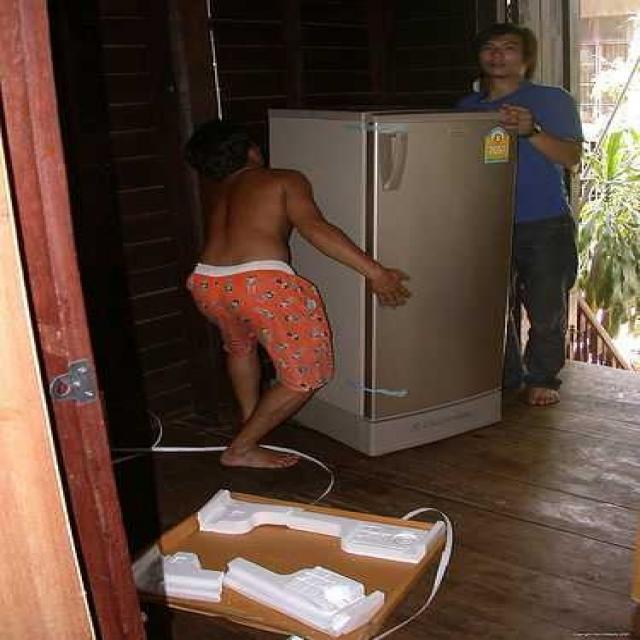refrigerator: (270, 109, 535, 438)
